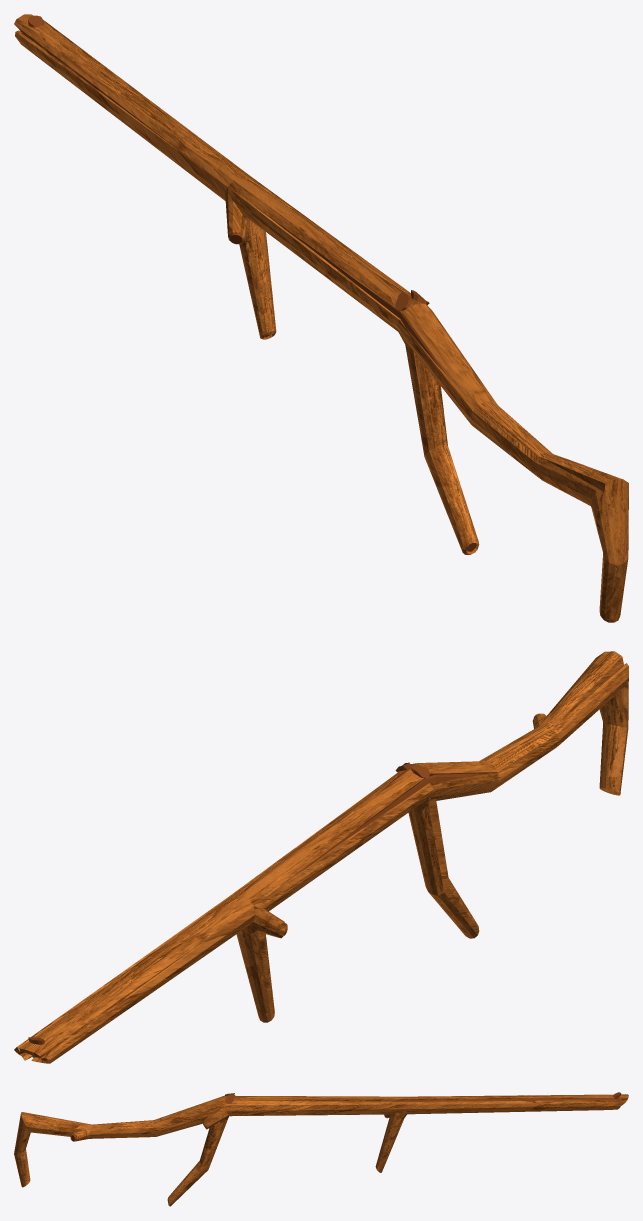
File: rifle.fbx
3 views of the same model, one above another, from view 1: azimuth 30°, elevation 25°; view 2: azimuth 150°, elevation 25°; view 3: azimuth 270°, elevation 25° (orthographic). The views are drawn at different scales.
Parts seen in each view (by area): view 1: Cylinder, Cylinder.001; view 2: Cylinder, Cylinder.001; view 3: Cylinder, Cylinder.001.
Boxes of the visible parts, bbox=[...] form: Cylinder: bbox=[14, 14, 628, 622]; Cylinder.001: bbox=[22, 33, 447, 375]; Cylinder: bbox=[14, 651, 628, 1063]; Cylinder.001: bbox=[30, 773, 483, 1058]; Cylinder: bbox=[14, 1094, 628, 1206]; Cylinder.001: bbox=[241, 1098, 621, 1101].
Size of the model in its own units: 342 by 1238 by 6115.
4 materials, 1 textured.
